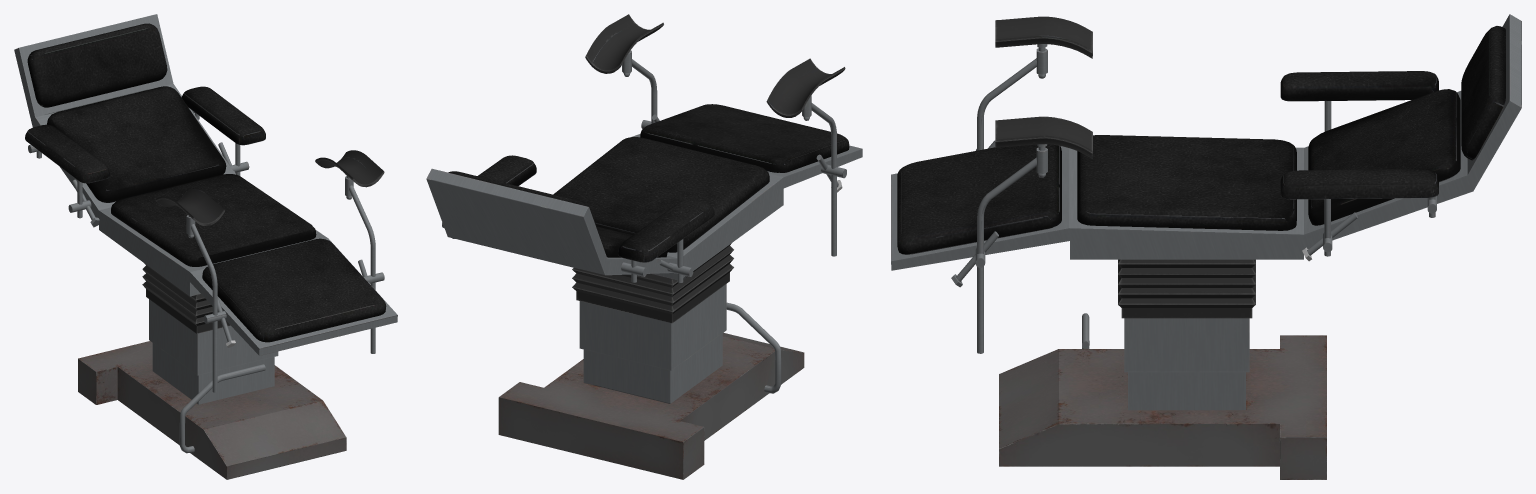
File: Surgical_Bed.fbx
3 renders of one model, left to right at view 1: azimuth 30°, elevation 25°; view 2: azimuth 150°, elevation 25°; view 3: azimuth 270°, elevation 25°, orthographic. The views are drawn at different scales.
Parts seen in each view (by area): view 1: Surgical Bed; view 2: Surgical Bed; view 3: Surgical Bed.
Boxes of the visible parts, <box> form: Surgical Bed: <box>14,14,397,479</box>; Surgical Bed: <box>426,14,862,479</box>; Surgical Bed: <box>891,14,1521,479</box>.
Bounding box in the file's own units: 90 × 130 × 200.
